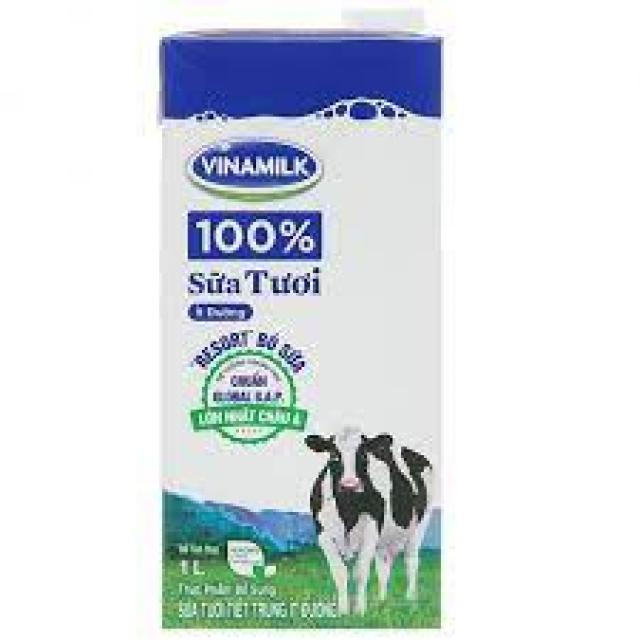non_white_jug: (143, 31, 418, 548)
